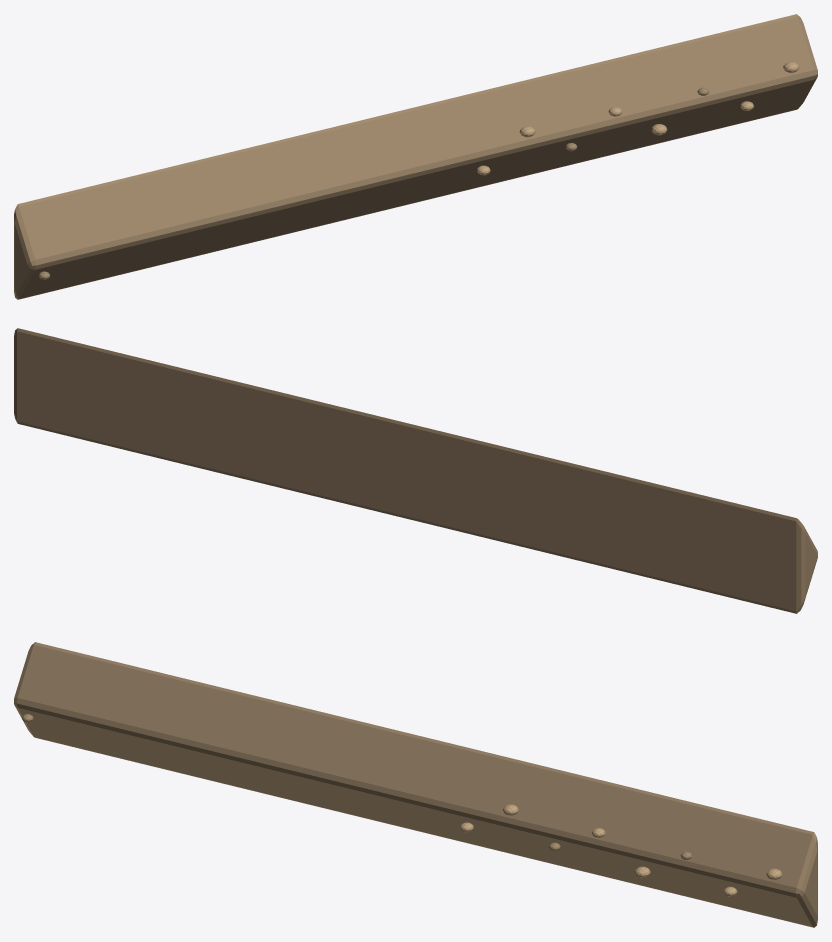
File: potato_ridge_340cm.glb
The picture shows the model from 3 angles, top to bottom: view 1: azimuth 30°, elevation 25°; view 2: azimuth 150°, elevation 25°; view 3: azimuth 330°, elevation 25°; orthographic projection.
Parts seen in each view (by area): view 1: rounded_visual_potato_ridge; view 2: rounded_visual_potato_ridge; view 3: rounded_visual_potato_ridge.
Boxes of the visible parts, x1,y1,x2,y2 form: rounded_visual_potato_ridge: (14,14,817,299); rounded_visual_potato_ridge: (14,328,817,613); rounded_visual_potato_ridge: (14,642,817,927).
Size of what is drawn, in the model's own units: 3.4 by 0.3934 by 0.162.
